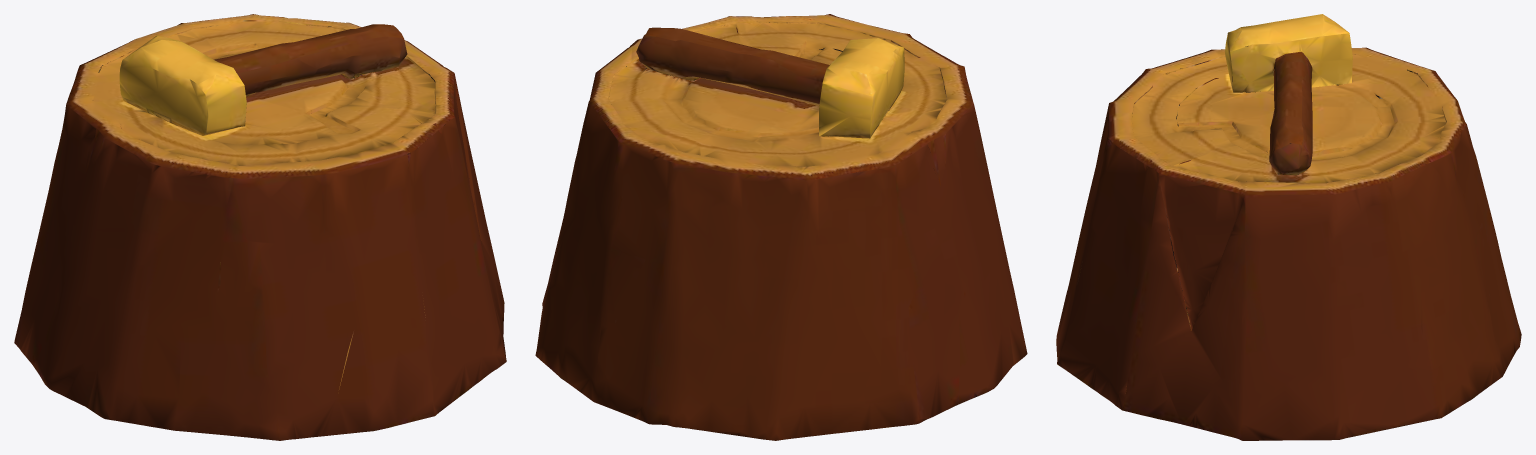
Rendered from carved-stump-low.glb.
The picture shows the model from 3 angles, left to right: view 1: azimuth 30°, elevation 25°; view 2: azimuth 150°, elevation 25°; view 3: azimuth 270°, elevation 25°; orthographic projection. The views are drawn at different scales.
Visible parts, largest first — view 1: bridge-stump-carved-hammer; view 2: bridge-stump-carved-hammer; view 3: bridge-stump-carved-hammer.
Part boxes in pixels (x1=…): bridge-stump-carved-hammer: x1=14, y1=14, x2=506, y2=440; bridge-stump-carved-hammer: x1=535, y1=14, x2=1027, y2=440; bridge-stump-carved-hammer: x1=1056, y1=14, x2=1521, y2=440.
Size of the model in its own units: 1.16 by 0.7857 by 1.17.
Materials: 1 (1 with a texture image).
